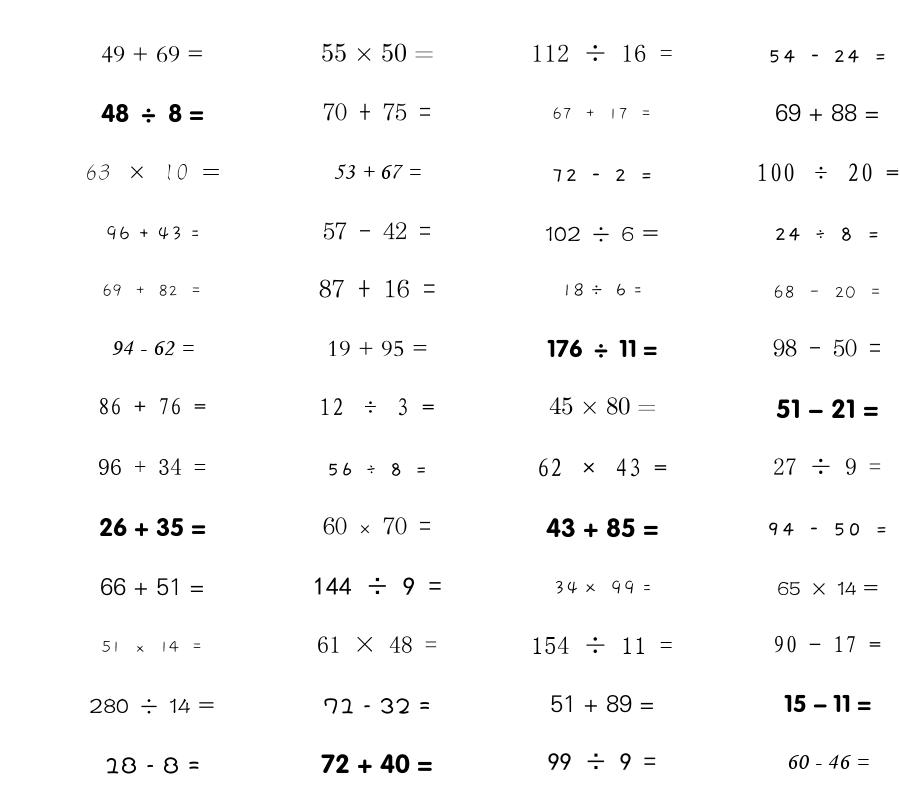MQ: (756, 163, 899, 182), (531, 44, 673, 62), (531, 636, 673, 654), (537, 458, 667, 477), (313, 577, 442, 595), (85, 164, 220, 181), (546, 518, 659, 538), (321, 754, 433, 774), (319, 279, 436, 298), (321, 43, 434, 62), (99, 517, 206, 537), (547, 339, 657, 358), (319, 398, 435, 416), (101, 103, 204, 123), (776, 399, 879, 419), (317, 636, 437, 653), (89, 698, 215, 714), (775, 103, 880, 122), (100, 577, 205, 596), (323, 103, 431, 121), (323, 222, 431, 240), (773, 339, 881, 357), (98, 397, 206, 415), (323, 517, 431, 535), (773, 635, 881, 653), (549, 397, 656, 415), (550, 695, 655, 713), (98, 458, 206, 475), (773, 458, 881, 475), (548, 753, 656, 770), (545, 226, 659, 242), (101, 46, 204, 63), (323, 698, 431, 714), (327, 340, 428, 357), (766, 522, 888, 536), (767, 49, 887, 63), (784, 694, 871, 713), (104, 757, 200, 774), (773, 285, 882, 299), (105, 225, 200, 241), (777, 581, 878, 596), (553, 580, 652, 595), (774, 227, 880, 241), (326, 462, 428, 476), (111, 340, 194, 356), (551, 169, 653, 182), (101, 640, 203, 653), (333, 164, 421, 179), (552, 107, 652, 120), (102, 284, 202, 297), (786, 754, 869, 769), (561, 283, 643, 297)
